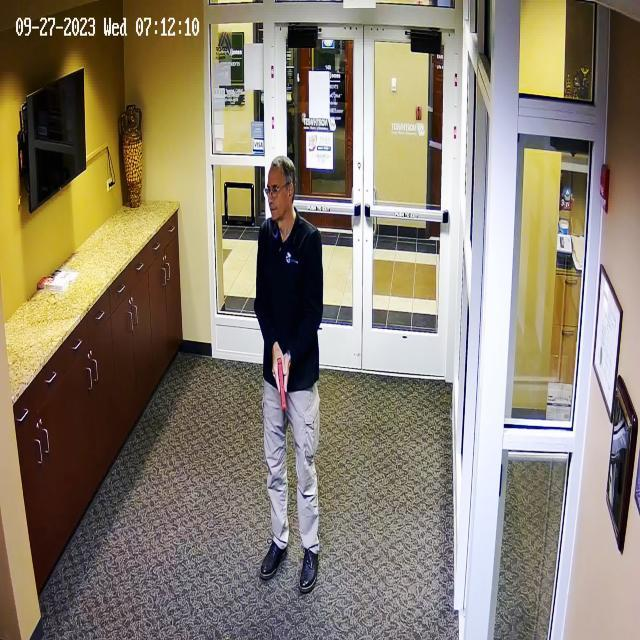Gun: (259, 349, 299, 419)
